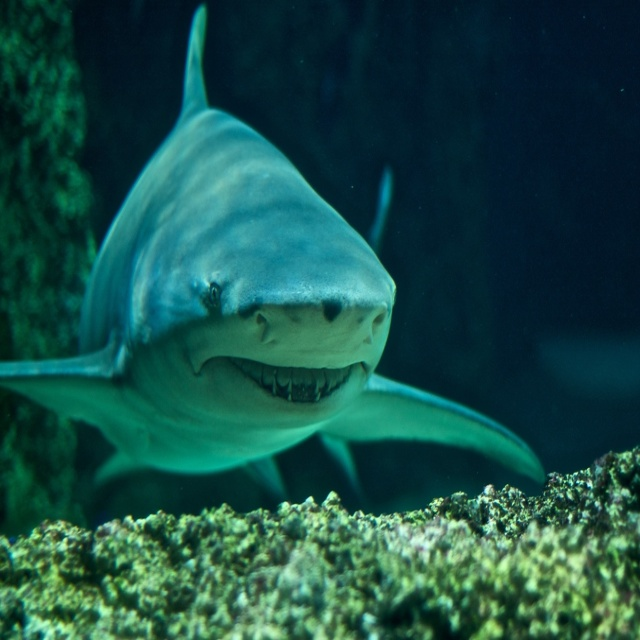Shark: (0, 4, 546, 497)
